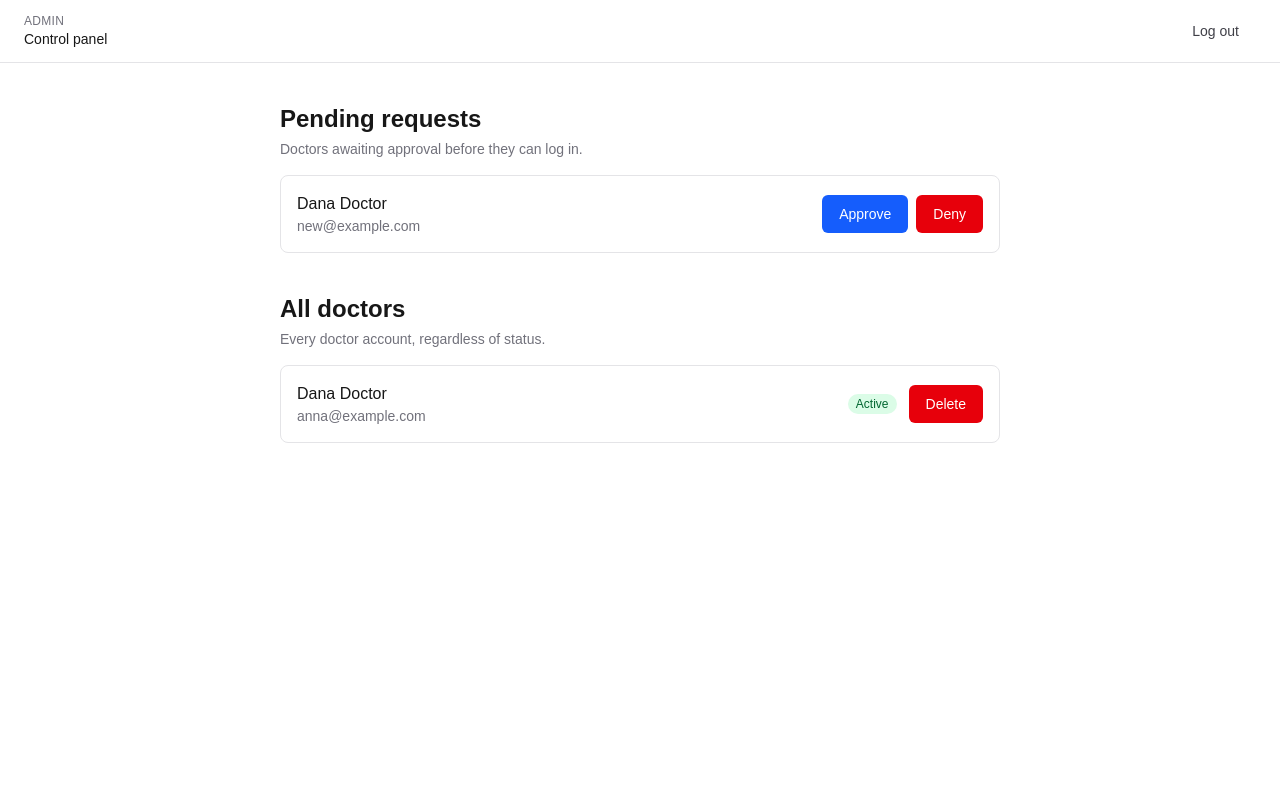
Admin flow › denies a pending request after confirmation
Click the button "Deny".
click(950, 214)  # box x1=916 y1=195 x2=983 y2=233
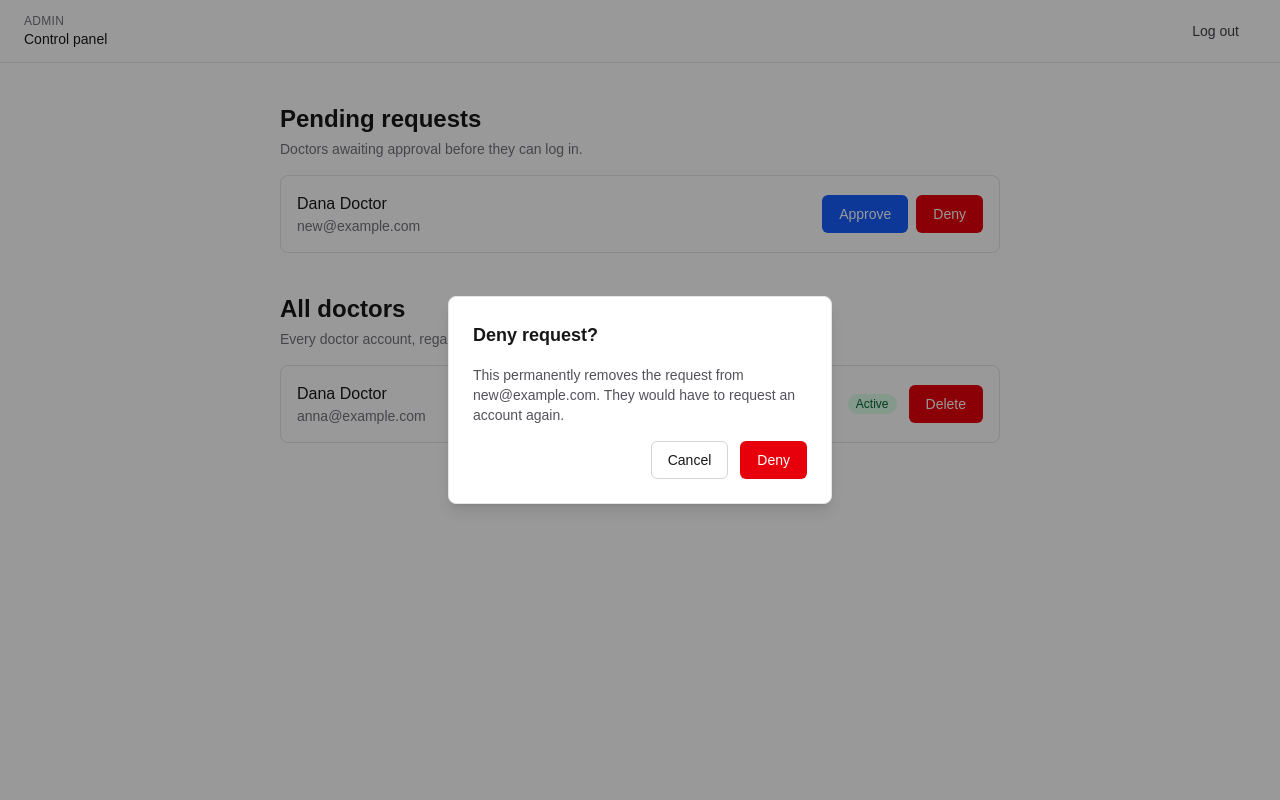
Expected: the heading "Deny request?" is shown, x1=473 y1=325 x2=598 y2=345
Click the button "Deny".
click(774, 460)  # box x1=740 y1=441 x2=807 y2=479
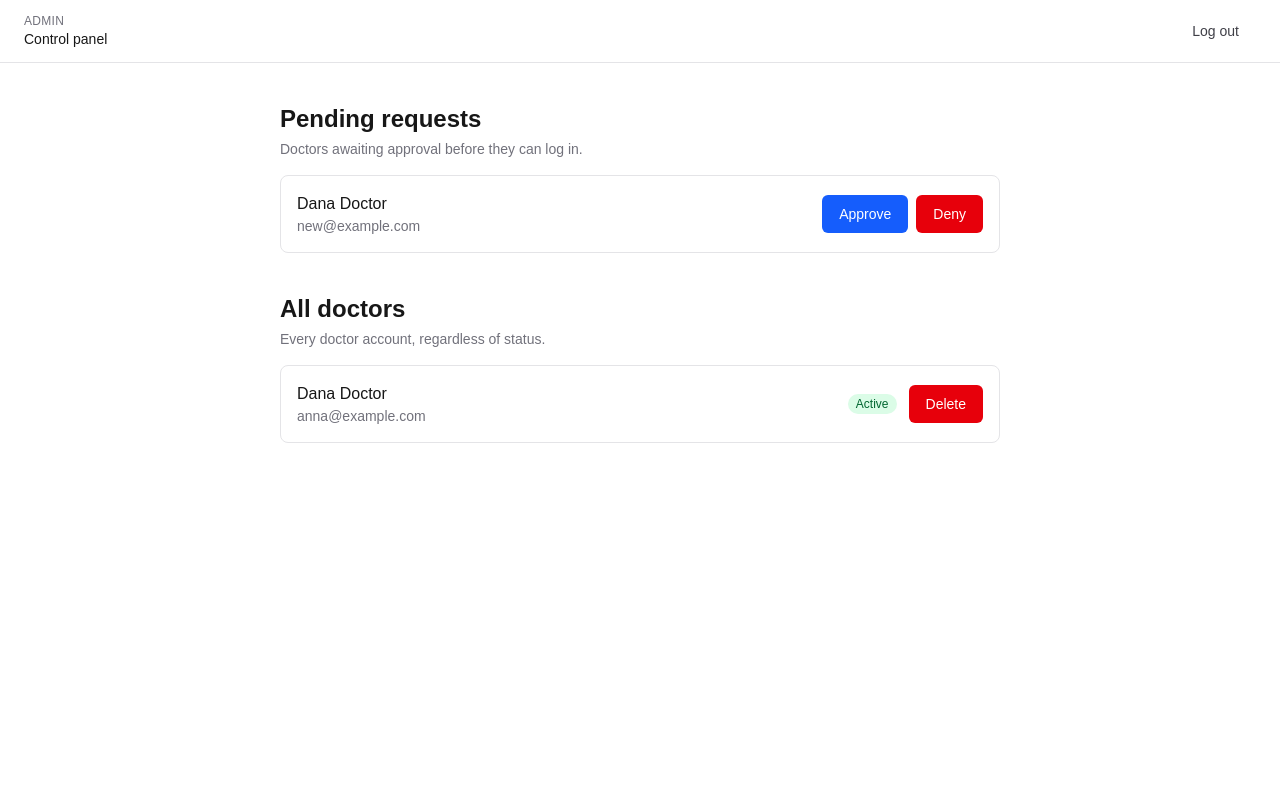
Expected: the dialog is gone
